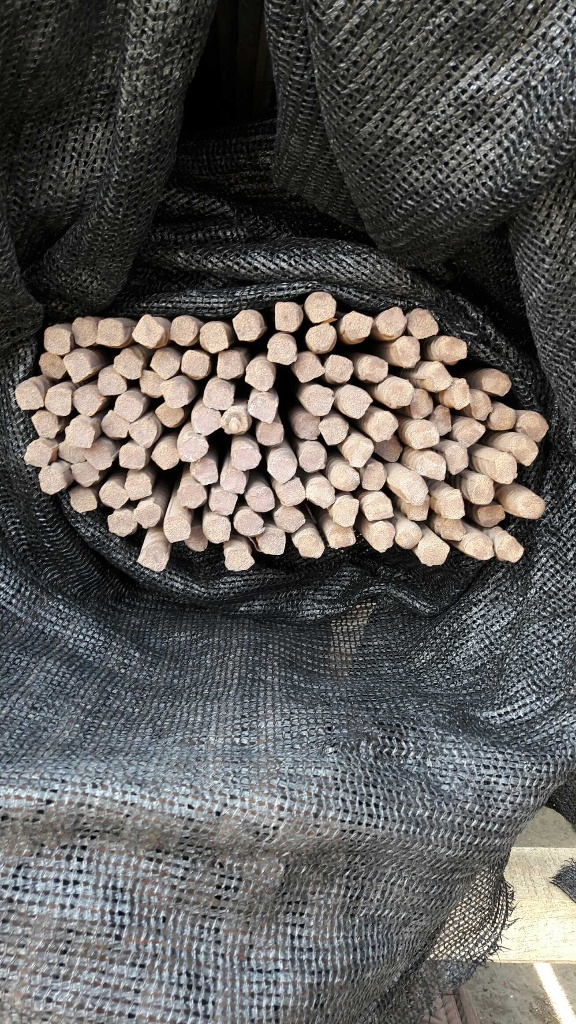dipstick: (336, 385, 372, 418), (133, 314, 163, 350), (506, 433, 538, 466), (266, 333, 298, 365), (416, 532, 448, 564), (232, 309, 262, 342), (306, 291, 335, 325), (298, 387, 333, 415), (340, 309, 372, 339), (230, 440, 263, 469), (290, 353, 324, 381), (250, 393, 280, 424), (413, 451, 443, 482), (31, 410, 63, 439), (407, 308, 439, 337), (274, 301, 302, 334), (268, 449, 296, 482), (306, 479, 334, 512), (214, 351, 244, 381), (15, 381, 45, 411), (245, 361, 274, 392), (161, 378, 190, 409), (200, 321, 228, 353), (395, 335, 423, 367), (463, 389, 491, 421), (112, 393, 145, 420), (464, 532, 494, 561), (305, 324, 335, 353), (377, 308, 407, 337), (488, 401, 517, 431), (519, 409, 547, 440), (170, 316, 197, 348), (367, 411, 399, 438), (479, 369, 511, 396), (205, 378, 234, 407), (466, 475, 495, 504), (424, 361, 453, 390), (181, 349, 209, 379), (71, 386, 99, 416), (101, 411, 129, 441), (298, 444, 326, 474), (292, 413, 322, 441), (443, 444, 471, 474), (65, 420, 96, 447), (70, 461, 101, 488), (455, 419, 486, 446), (96, 370, 128, 396), (347, 435, 373, 467), (370, 520, 395, 553), (511, 495, 544, 520), (406, 422, 439, 447), (42, 327, 71, 355), (150, 350, 179, 378), (38, 466, 67, 494), (68, 486, 97, 514), (384, 380, 412, 409), (86, 442, 113, 472), (99, 483, 129, 510), (106, 509, 136, 536), (150, 444, 180, 471), (192, 406, 219, 436), (235, 513, 265, 540), (363, 493, 393, 520), (399, 475, 429, 502), (358, 355, 388, 382), (115, 350, 141, 381), (64, 353, 92, 381), (374, 435, 402, 463), (24, 440, 53, 467), (326, 354, 353, 383), (132, 370, 162, 396), (279, 479, 305, 509), (333, 497, 359, 527), (321, 416, 347, 446), (438, 336, 468, 362), (98, 318, 123, 349), (37, 352, 65, 379), (124, 472, 152, 499), (257, 530, 285, 557), (46, 387, 72, 416), (137, 547, 166, 573), (163, 515, 189, 544), (447, 380, 472, 410), (272, 507, 303, 531), (473, 503, 505, 526), (191, 458, 218, 485), (206, 515, 233, 542), (130, 418, 156, 446), (297, 534, 325, 560), (72, 318, 97, 347), (247, 487, 276, 512), (176, 436, 206, 460), (224, 546, 255, 569), (220, 467, 246, 494), (333, 465, 359, 492), (134, 501, 159, 529), (210, 487, 235, 515), (327, 524, 355, 549), (156, 402, 185, 426), (398, 523, 422, 552), (438, 518, 466, 542), (58, 440, 87, 463), (183, 527, 208, 553), (118, 445, 146, 468), (499, 535, 522, 563), (364, 463, 386, 492), (441, 490, 463, 519), (410, 391, 432, 420), (221, 409, 247, 433), (257, 423, 284, 446), (406, 493, 428, 520), (433, 405, 452, 436), (496, 452, 514, 484), (178, 485, 204, 505)
